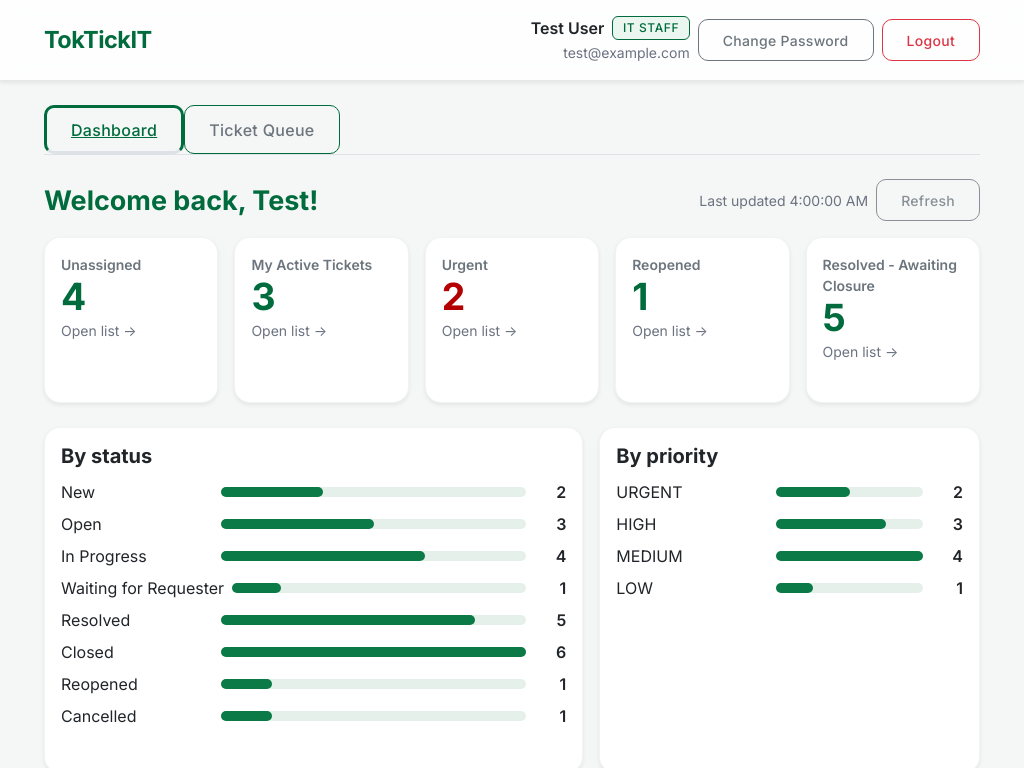
UI-25: role navigation, landing page and dashboard drill-down (Issue #33) › clicking Ticket Queue in the menu while the queue is already open drops the Dashboard filters
Click the link with aria-label "Unassigned: 4". click: (131, 320)
box: [44,237,218,403]
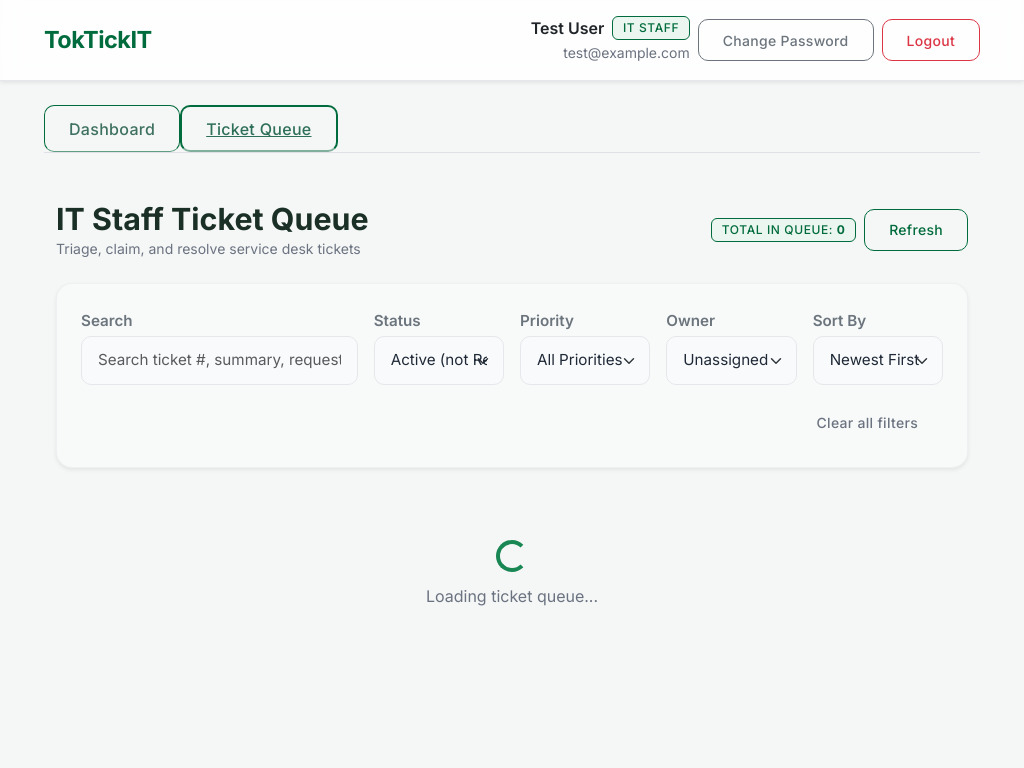
Now the dropdown labelled "Owner" shows "Unassigned", box [666,336,797,385]
Click the button "Ticket Queue". click: (259, 129)
box: [180,105,338,152]
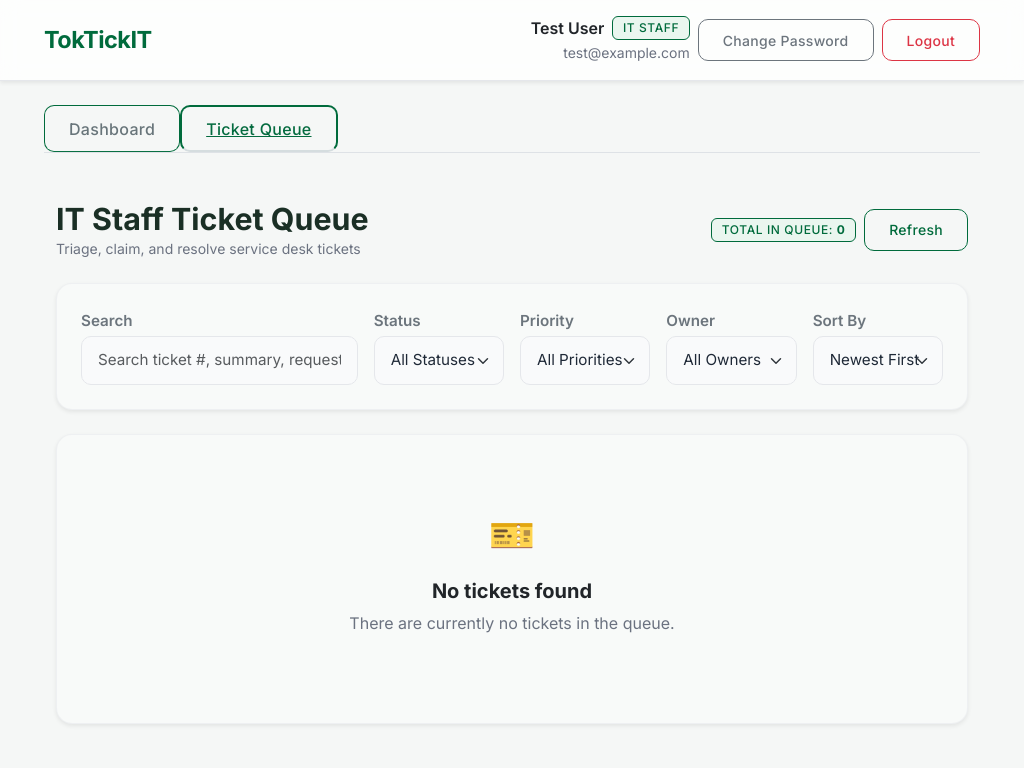
Now the dropdown labelled "Owner" shows "All Owners", box [666,336,797,385]
Now the dropdown labelled "Status" shows "All Statuses", box [374,336,504,385]
